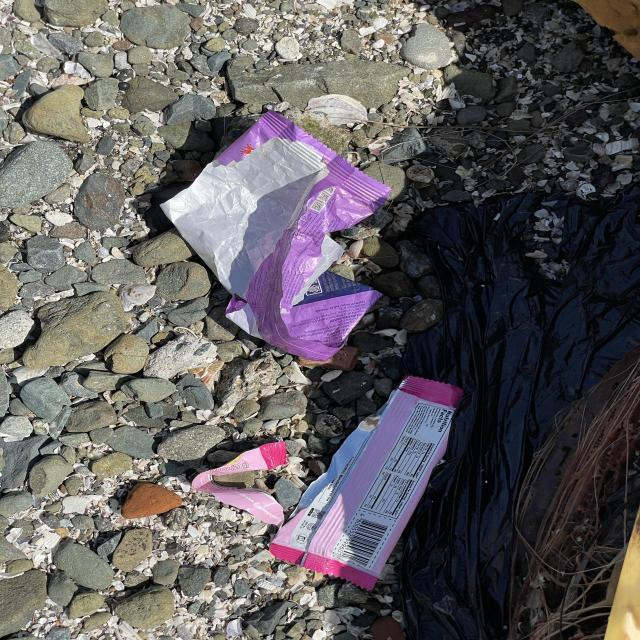plastic_waste: (163, 108, 397, 364), (272, 377, 466, 589)
